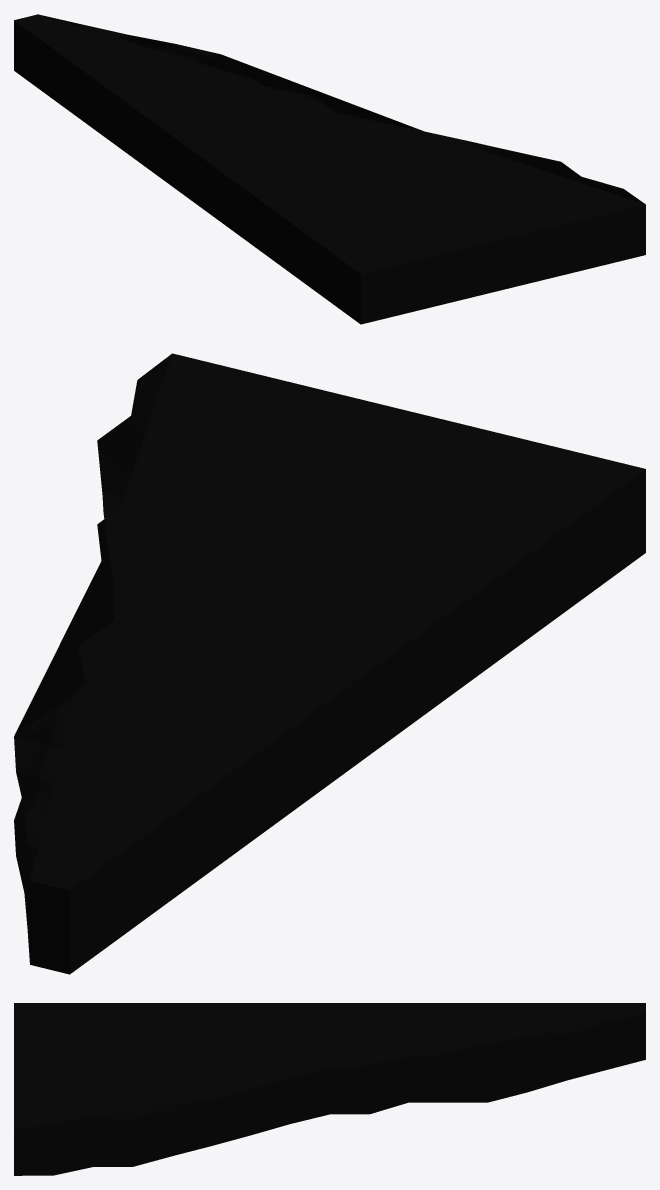
File: Closing.fbx
3 views of the same model, one above another, from view 1: azimuth 30°, elevation 25°; view 2: azimuth 150°, elevation 25°; view 3: azimuth 270°, elevation 25° (orthographic). The views are drawn at different scales.
Parts seen in each view (by area): view 1: Road01; view 2: Road01; view 3: Road01.
Boxes of the visible parts, bbox=[...] form: Road01: bbox=[14, 14, 645, 324]; Road01: bbox=[14, 353, 645, 974]; Road01: bbox=[14, 1003, 645, 1175].
Size of the model in its own units: 118 by 20 by 249.
